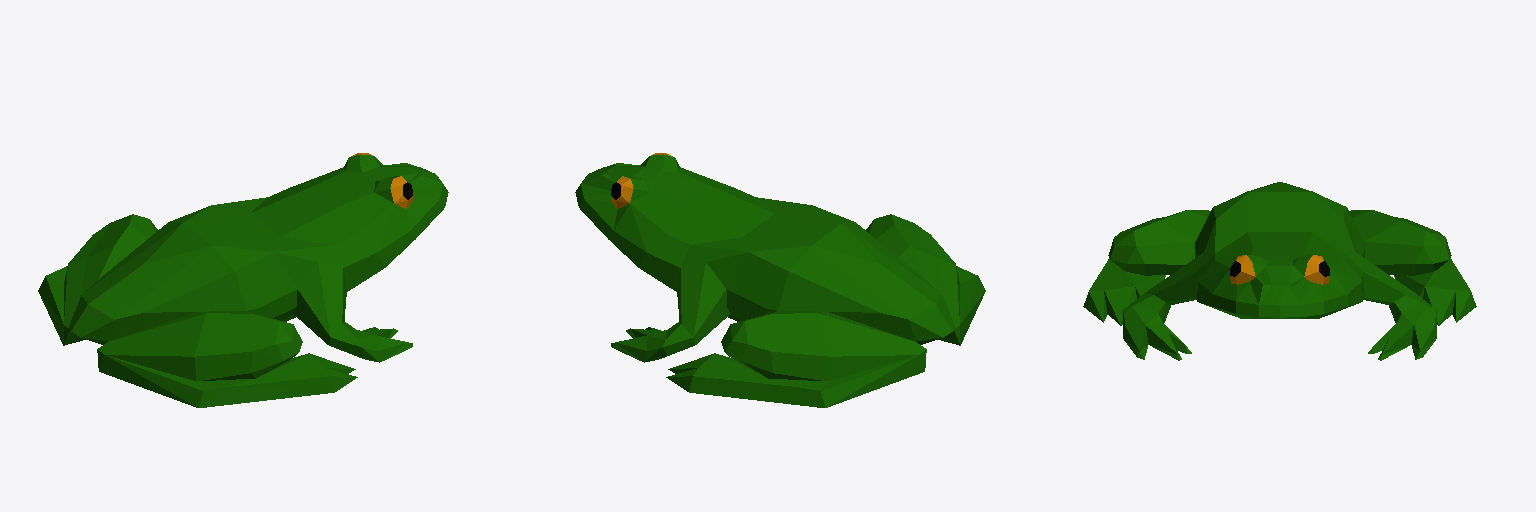
Rendered from Frog.obj.
The picture shows the model from 3 angles: view 1: azimuth 30°, elevation 25°; view 2: azimuth 150°, elevation 25°; view 3: azimuth 270°, elevation 25°; orthographic projection.
Visible parts, largest first — view 1: Frog; view 2: Frog; view 3: Frog.
Part boxes in pixels (bbox=[...]): Frog: bbox=[38, 153, 448, 407]; Frog: bbox=[575, 153, 985, 407]; Frog: bbox=[1083, 182, 1476, 360].
Size of the model in its own units: 276 by 85.69 by 254.